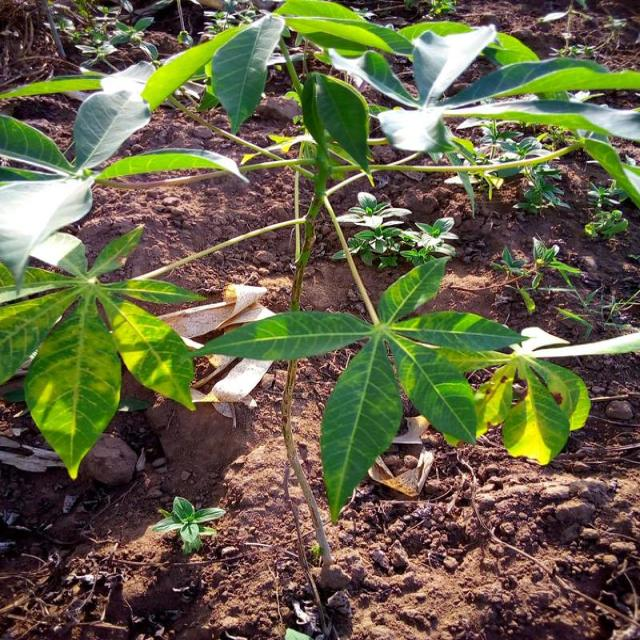cassava leaf: (22, 291, 122, 480), (319, 332, 403, 524), (207, 13, 285, 134), (300, 70, 374, 187), (501, 360, 570, 465)
